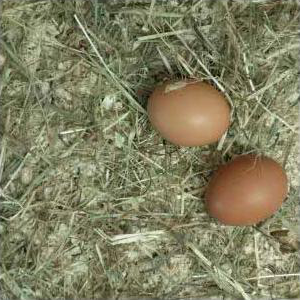egg: (203, 154, 289, 227), (148, 80, 232, 147)
